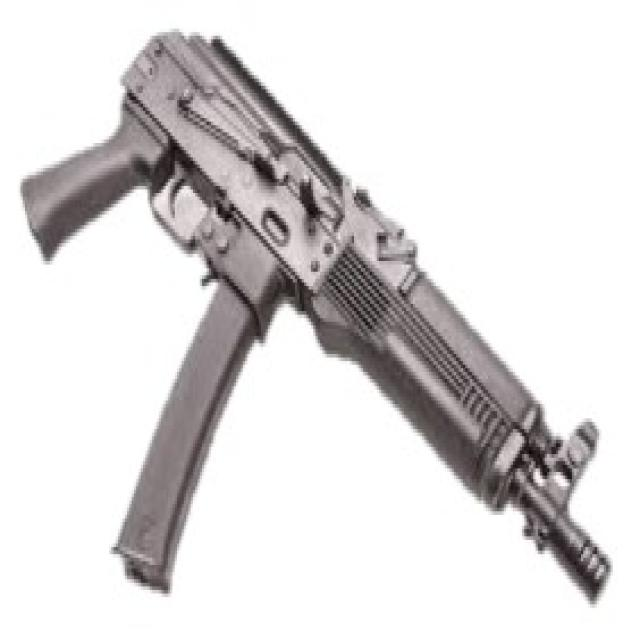rifle: (22, 28, 618, 618)
